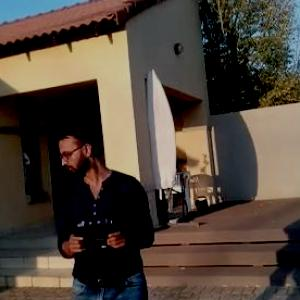follow: (50, 110, 160, 299)
